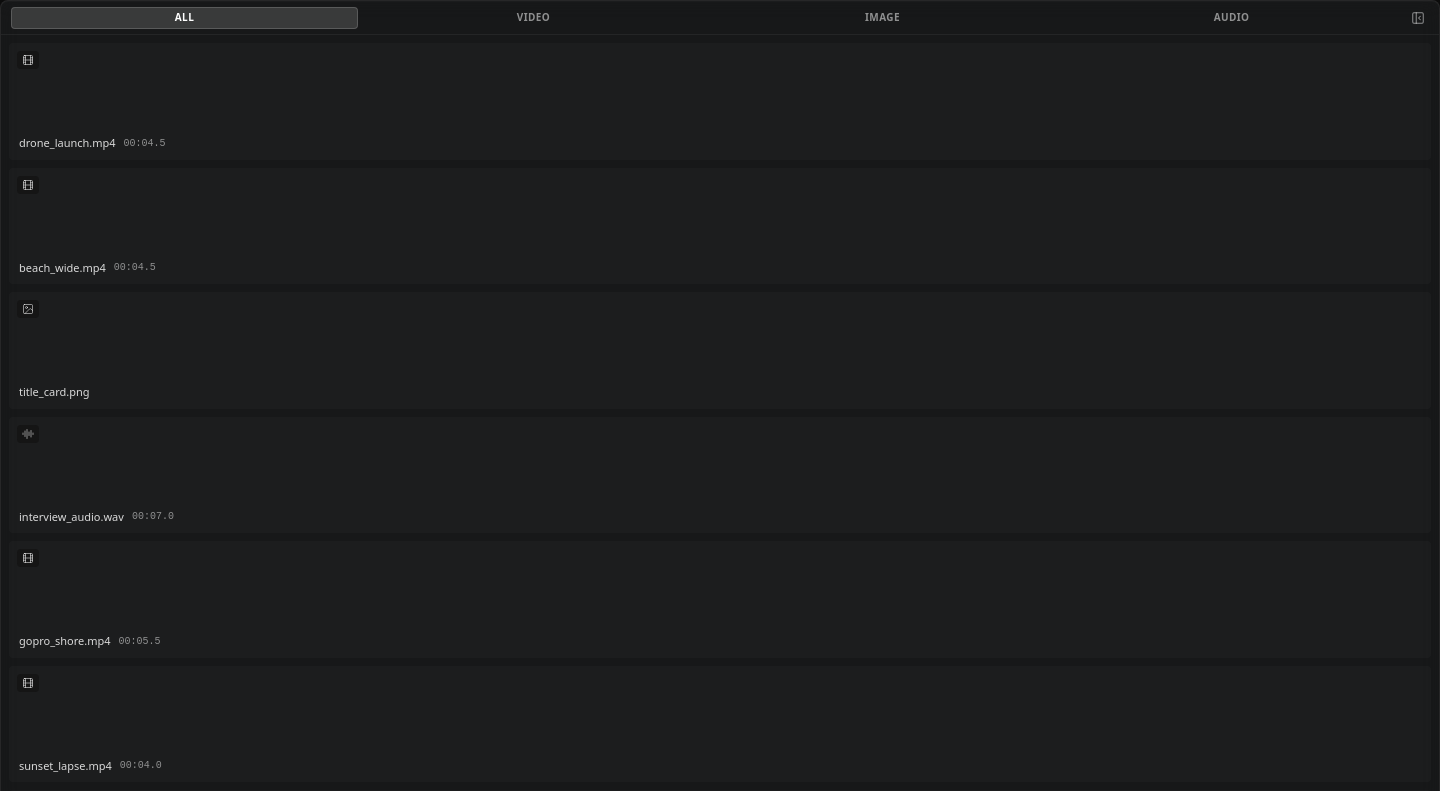
Test case: pool type tabs (R18i thread #11) › empty tab shows the honest empty state, not a silent blank
The width and height of the screenshot is (1440, 791).
What coordinates should you click on to do the following:
click the button with test id "mini-pool-tab-image"
I would click on:
 (882, 18)
Its box is [709,6,1056,28].
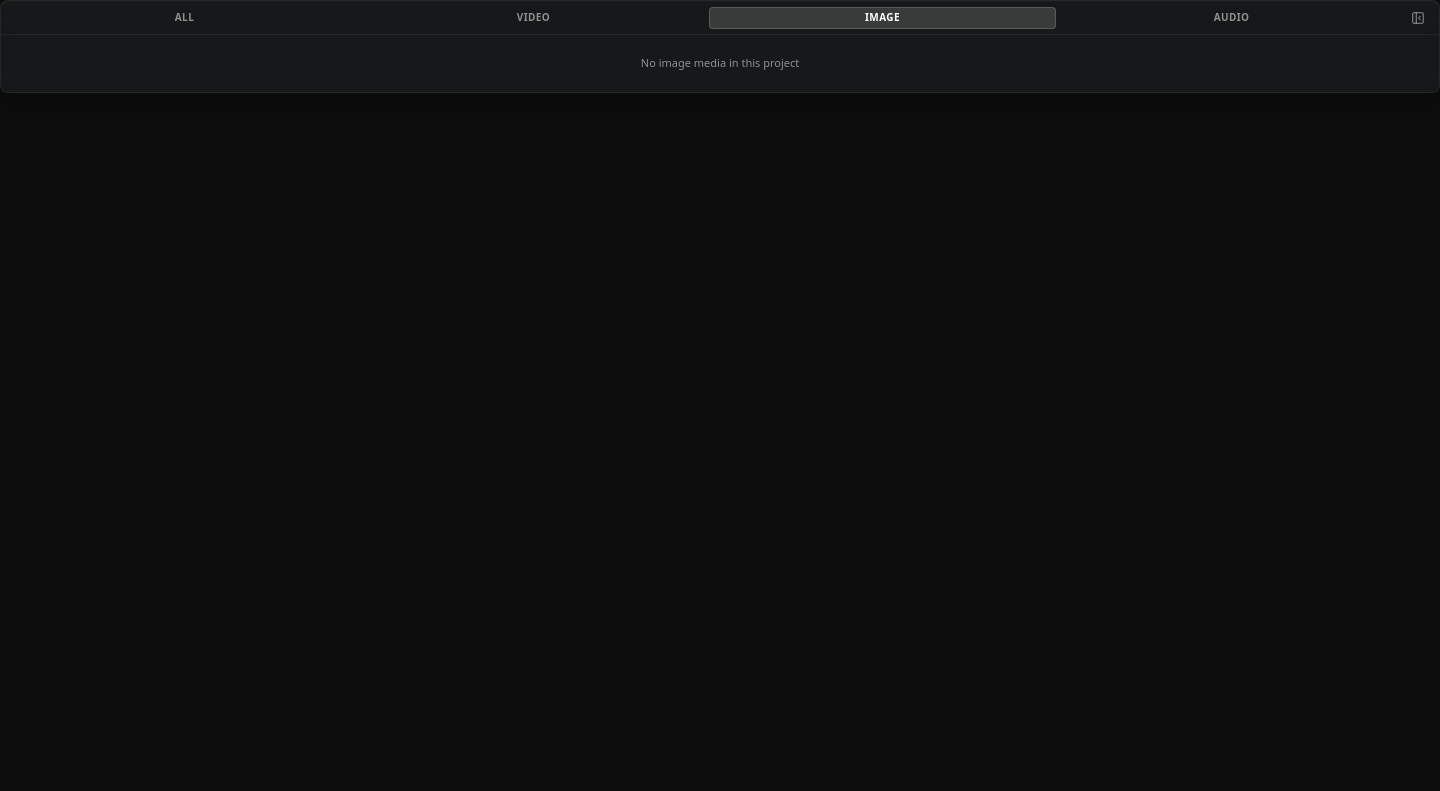
expect the text with test id "mini-pool-empty" shows "No image media": met, box [641,55,799,70]
